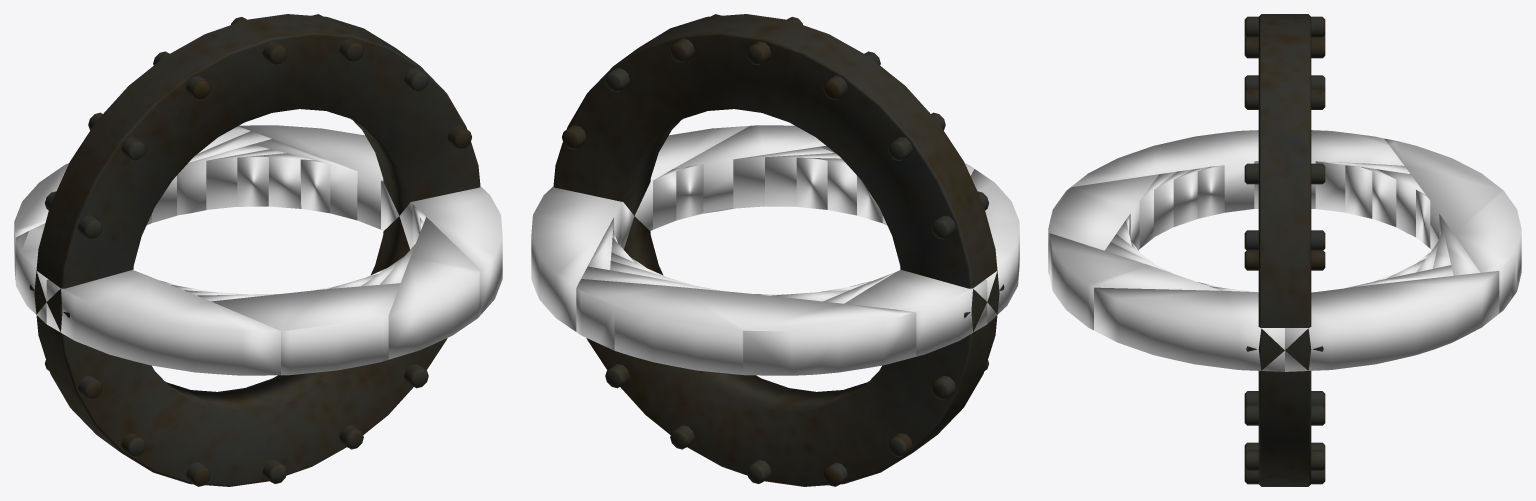
File: SM_Pipes_XLarge_Ring.fbx
3 views of the same model, side by side, from view 1: azimuth 30°, elevation 25°; view 2: azimuth 150°, elevation 25°; view 3: azimuth 270°, elevation 25° (orthographic). The views are drawn at different scales.
Parts seen in each view (by area): view 1: SM_Pipes_XLarge_Ring, SM_Pipes_XLarge_Ring_ConvexHulls; view 2: SM_Pipes_XLarge_Ring, SM_Pipes_XLarge_Ring_ConvexHulls; view 3: SM_Pipes_XLarge_Ring_ConvexHulls, SM_Pipes_XLarge_Ring.
Boxes of the visible parts, x1=… form: SM_Pipes_XLarge_Ring: x1=29, y1=14, x2=480, y2=486; SM_Pipes_XLarge_Ring_ConvexHulls: x1=14, y1=125, x2=502, y2=375; SM_Pipes_XLarge_Ring: x1=553, y1=14, x2=1004, y2=486; SM_Pipes_XLarge_Ring_ConvexHulls: x1=531, y1=125, x2=1019, y2=375; SM_Pipes_XLarge_Ring_ConvexHulls: x1=1048, y1=130, x2=1521, y2=371; SM_Pipes_XLarge_Ring: x1=1244, y1=14, x2=1325, y2=486.
Size of the model in its own units: 1.8 by 1.8 by 1.8.
